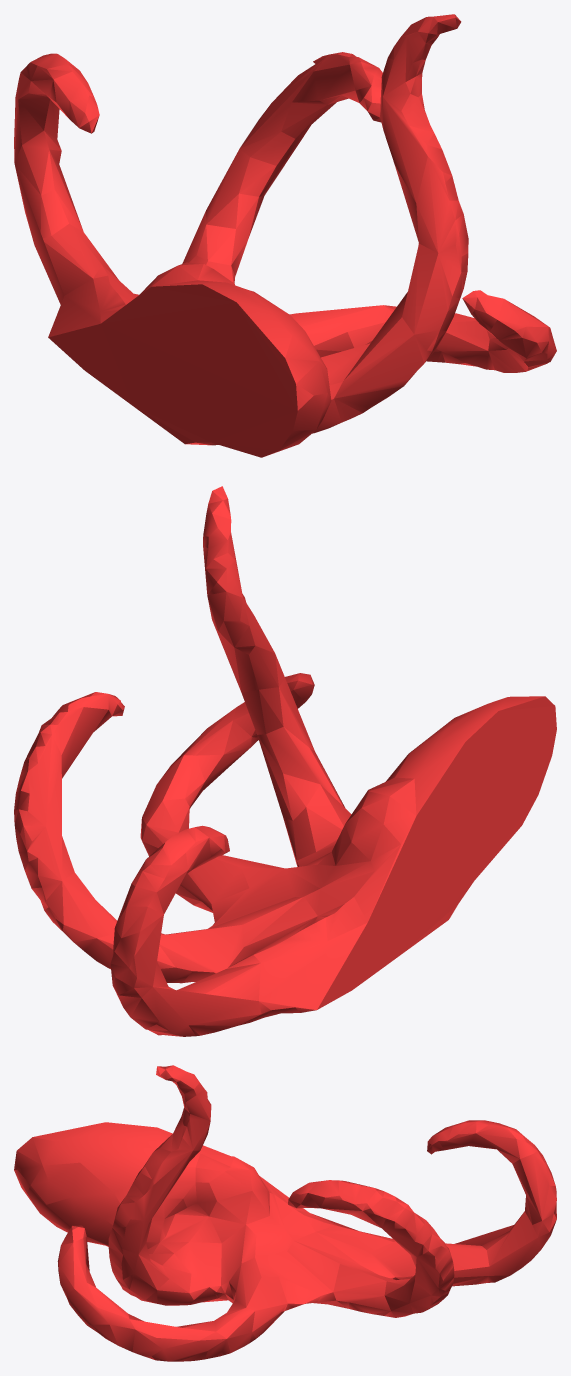
The picture shows the model from 3 angles, top to bottom: view 1: azimuth 30°, elevation 25°; view 2: azimuth 150°, elevation 25°; view 3: azimuth 270°, elevation 25°; orthographic projection. The views are drawn at different scales.
Parts seen in each view (by area): view 1: takosan; view 2: takosan; view 3: takosan.
Part boxes in pixels (x1=…): takosan: x1=14, y1=14, x2=556, y2=457; takosan: x1=14, y1=486, x2=556, y2=1036; takosan: x1=14, y1=1065, x2=556, y2=1361.
Size of the model in its own units: 3.41 by 3.8 by 6.6.
